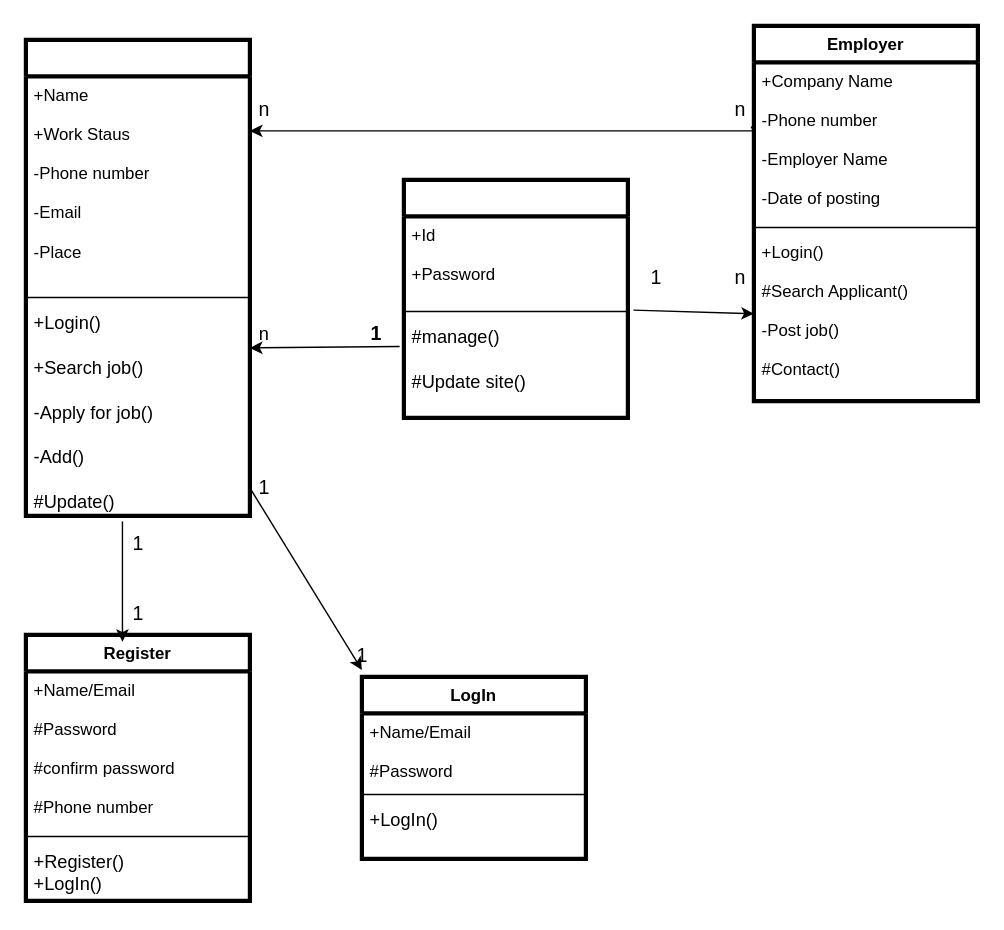
Image size: 1004x930. Some labels were removed from this diagram. Each missing label, with the box of its shape:
Admin: (401, 177, 629, 419)
Applicant: (23, 37, 251, 517)
